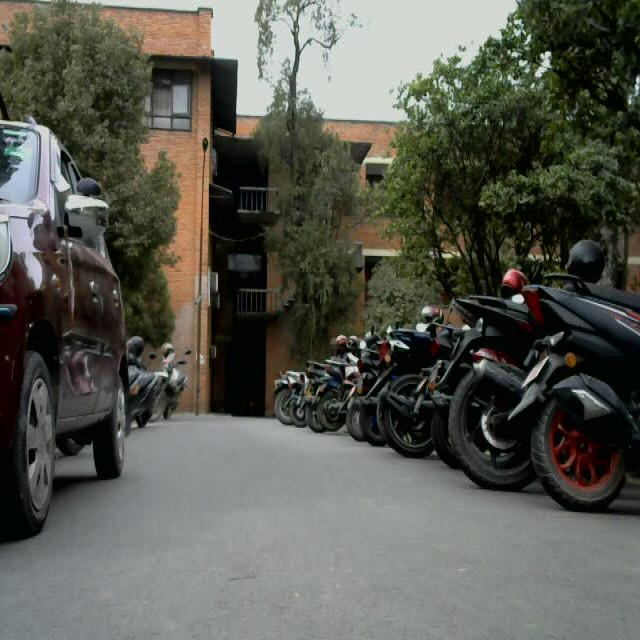Bike: (266, 260, 640, 510), (128, 337, 192, 435)
Car: (3, 115, 127, 544)
Pole: (194, 134, 212, 443)
Road: (67, 410, 540, 640)
trees: (247, 0, 382, 375), (7, 6, 176, 131)
